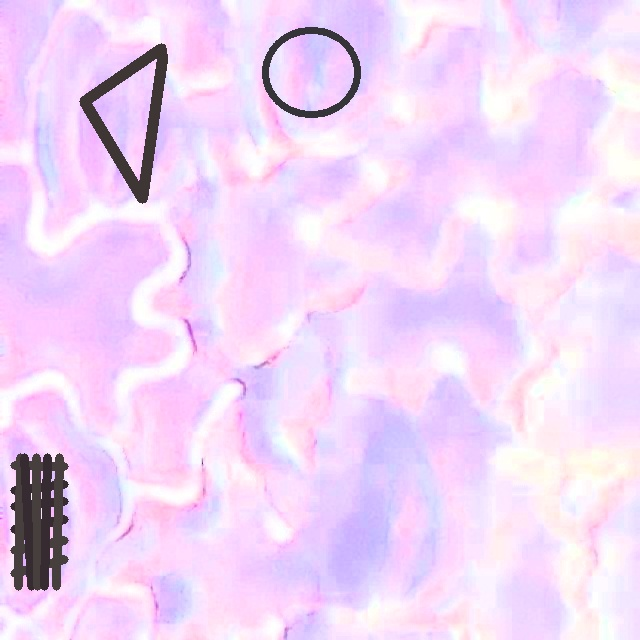open: (79, 44, 167, 202), (261, 26, 361, 119), (10, 453, 68, 590)
